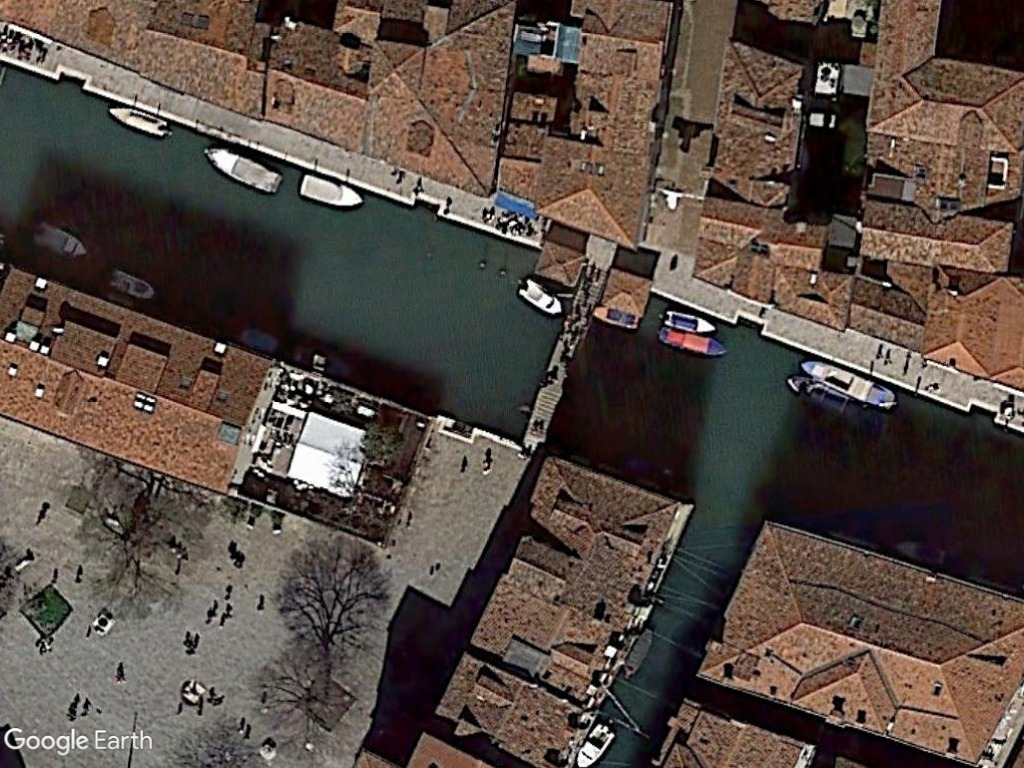boat: (793, 350, 900, 414), (197, 142, 286, 197), (296, 169, 367, 213), (103, 103, 175, 143), (101, 262, 161, 307), (655, 326, 730, 362), (567, 724, 619, 768), (513, 276, 564, 320), (659, 307, 719, 335)
